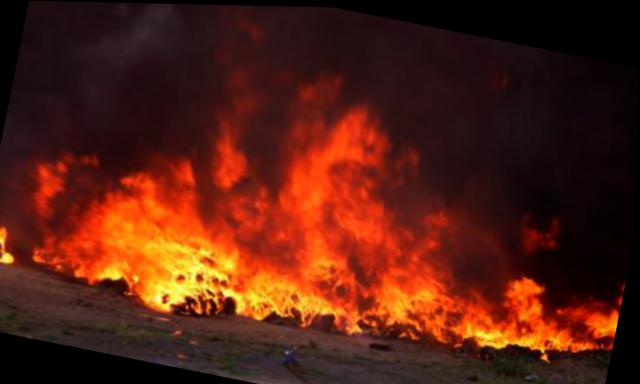fire: (253, 167, 399, 336), (92, 164, 205, 289), (139, 223, 262, 326), (286, 96, 395, 188), (375, 249, 466, 333), (34, 190, 112, 280), (384, 199, 454, 262), (455, 294, 527, 346), (206, 129, 259, 190), (520, 315, 598, 354), (560, 288, 622, 333), (502, 270, 558, 318), (0, 217, 27, 265)
